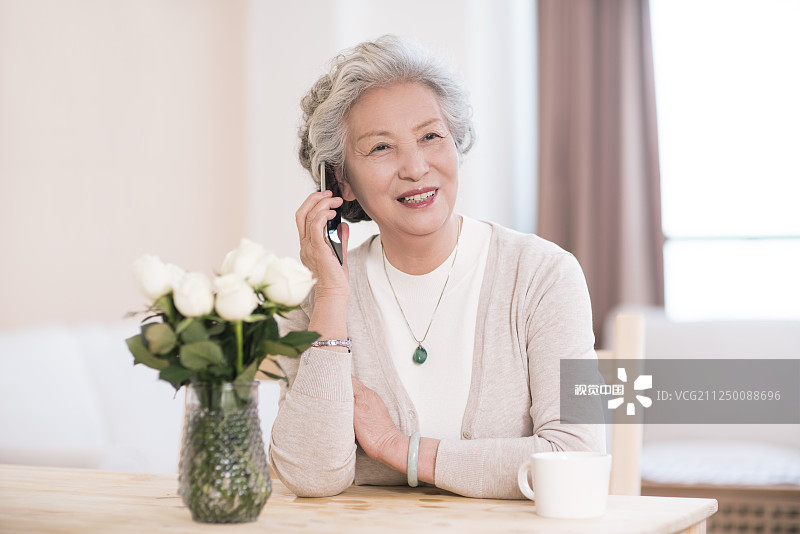calling: (281, 156, 381, 312)
